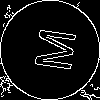M: (25, 25, 76, 73)
